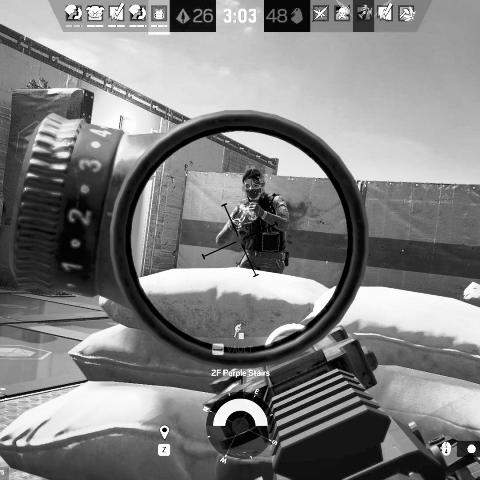Character: (215, 167, 291, 278)
Head: (243, 169, 266, 200)
